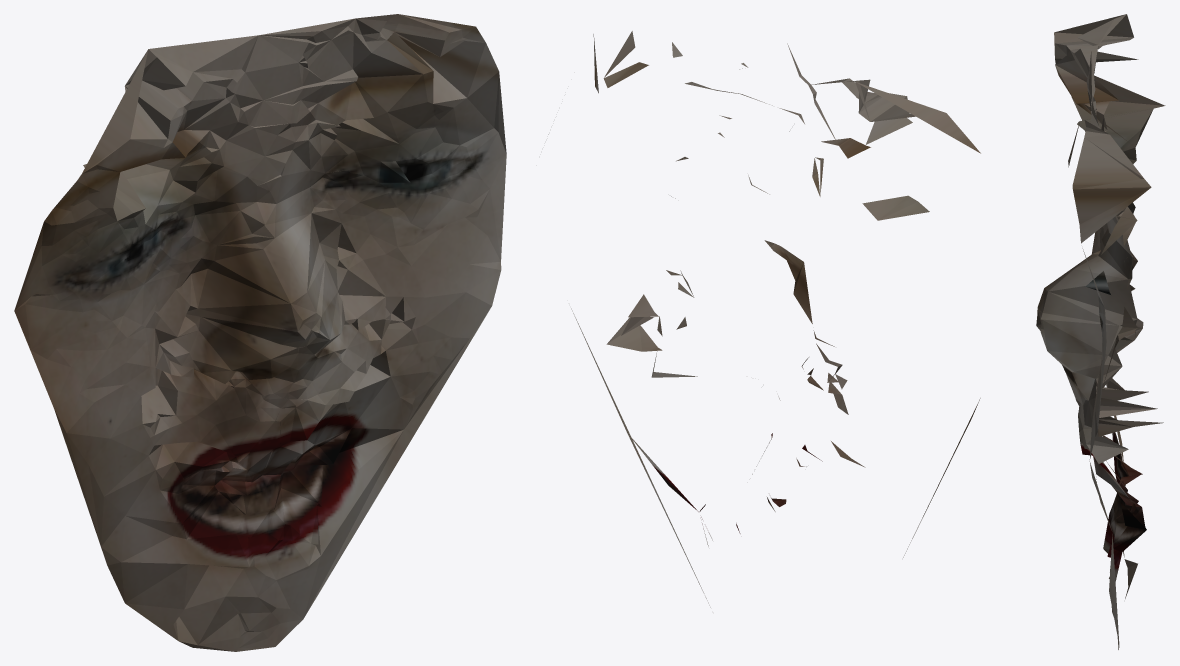
The model's file is smoothed_output.glb.
The picture shows the model from 3 angles, left to right: view 1: azimuth 30°, elevation 25°; view 2: azimuth 150°, elevation 25°; view 3: azimuth 270°, elevation 25°; orthographic projection. The views are drawn at different scales.
Parts seen in each view (by area): view 1: world; view 2: world; view 3: world.
Part boxes in pixels (box(x1,y1,x2,y2)): world: box(14, 14, 506, 651); world: box(548, 31, 980, 607); world: box(1036, 14, 1165, 649).
Bounding box in the file's own units: 0.1301 × 0.1593 × 0.0318.
Materials: 1 (1 with a texture image).
